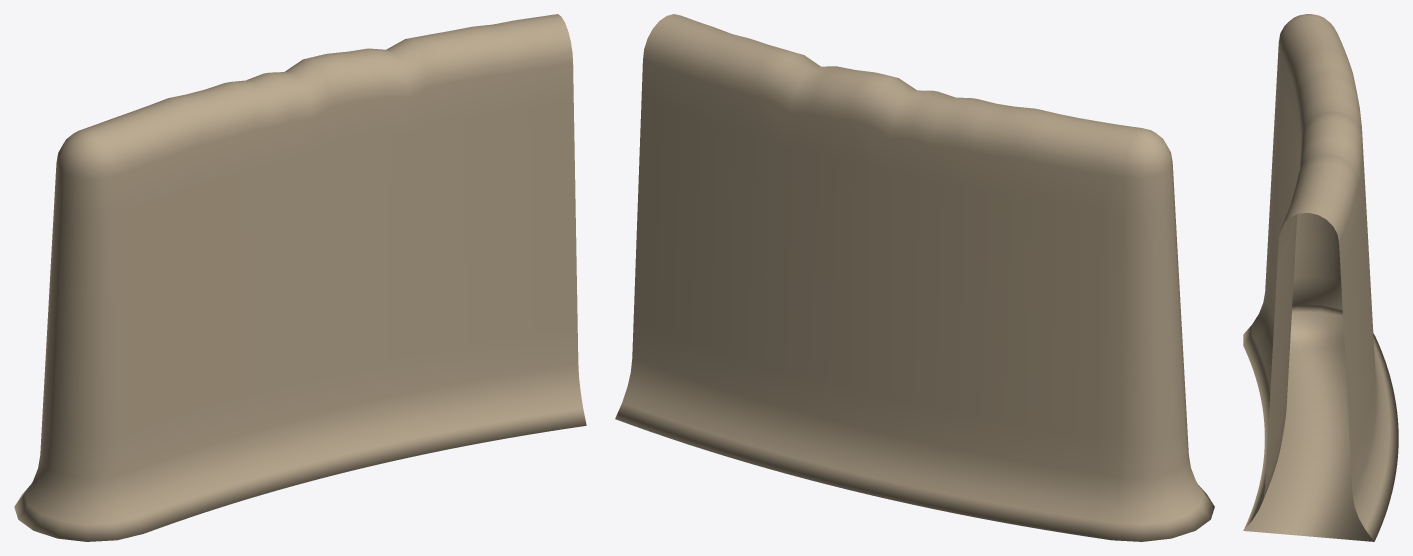
Rendered from KFB_Wall_curved_ring_r3_capB.r1.glb.
The picture shows the model from 3 angles, left to right: view 1: azimuth 30°, elevation 25°; view 2: azimuth 150°, elevation 25°; view 3: azimuth 270°, elevation 25°; orthographic projection. The views are drawn at different scales.
Parts seen in each view (by area): view 1: KFB_Wall_curved_ring_r3_capB; view 2: KFB_Wall_curved_ring_r3_capB; view 3: KFB_Wall_curved_ring_r3_capB.
Boxes of the visible parts, x1,y1,x2,y2 form: KFB_Wall_curved_ring_r3_capB: (14, 14, 586, 541); KFB_Wall_curved_ring_r3_capB: (615, 14, 1214, 541); KFB_Wall_curved_ring_r3_capB: (1243, 14, 1398, 541).
Size of the model in its own units: 5.48 by 3.63 by 1.57.
